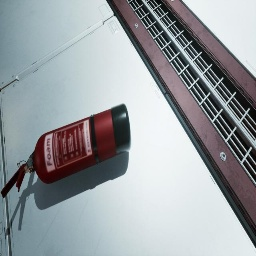FireExtinguisher ]: (1, 103, 131, 198)
